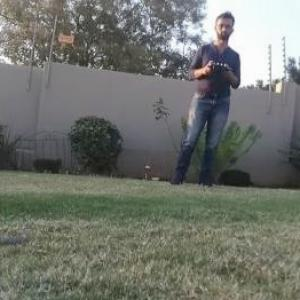follow: (161, 5, 244, 191)
